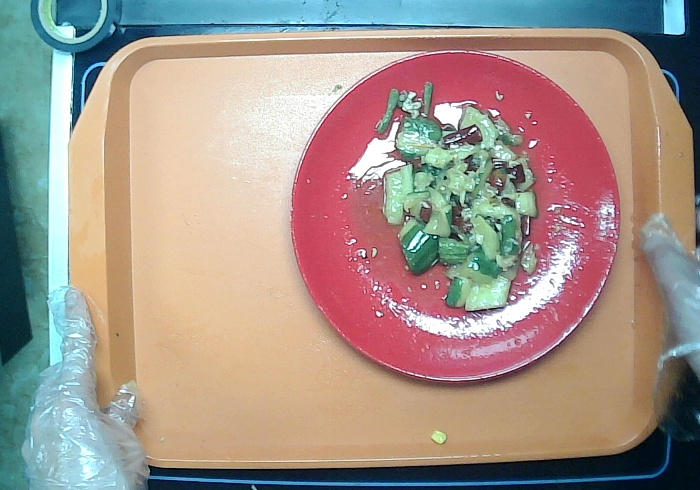HZYJPL-Hong_Se_Yuan_Pan: (271, 29, 628, 388)
